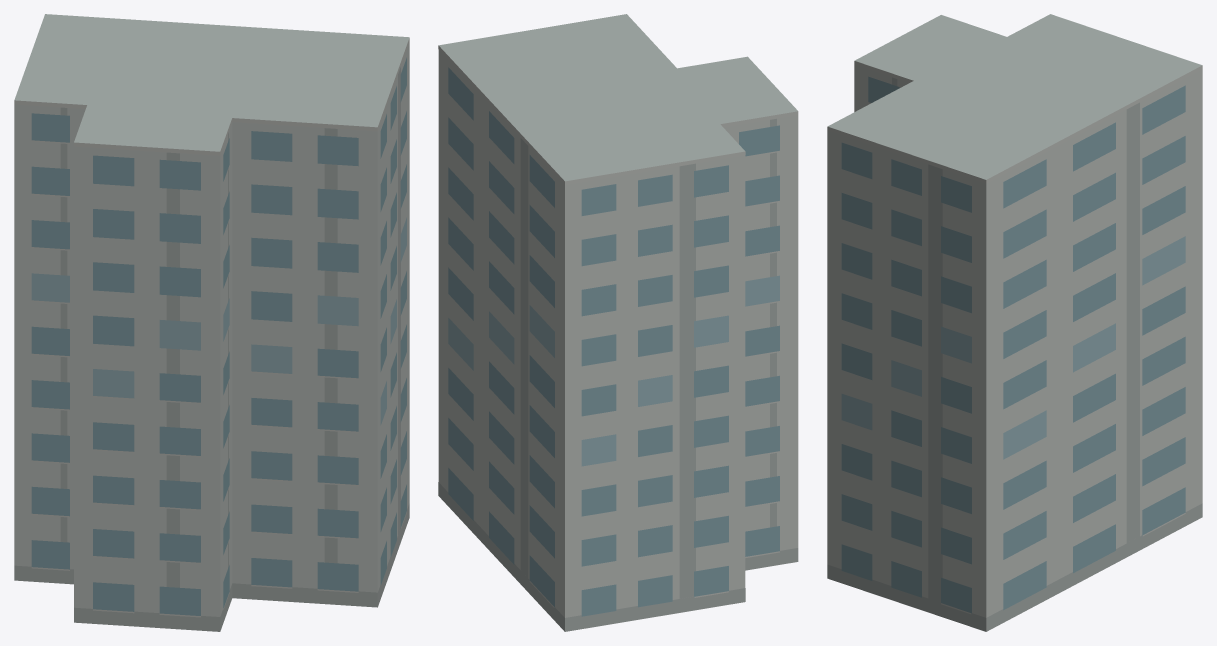
File: residential-53bcb283-7c47-4168-a87a-c81018d5d77b.glb
3 renders of one model, left to right at view 1: azimuth 30°, elevation 25°; view 2: azimuth 150°, elevation 25°; view 3: azimuth 270°, elevation 25°, orthographic. The views are drawn at different scales.
Visible parts, largest first — view 1: residential-53bcb283-7c47-4168-a87a-c81018d5d77b.tmp; view 2: residential-53bcb283-7c47-4168-a87a-c81018d5d77b.tmp; view 3: residential-53bcb283-7c47-4168-a87a-c81018d5d77b.tmp.
Boxes of the visible parts, left/top/right/bottom form: residential-53bcb283-7c47-4168-a87a-c81018d5d77b.tmp: left=14, top=14, right=409, bottom=631; residential-53bcb283-7c47-4168-a87a-c81018d5d77b.tmp: left=438, top=14, right=798, bottom=631; residential-53bcb283-7c47-4168-a87a-c81018d5d77b.tmp: left=827, top=14, right=1202, bottom=631.
Bounding box in the file's own units: 22.06 × 28 × 21.07.
